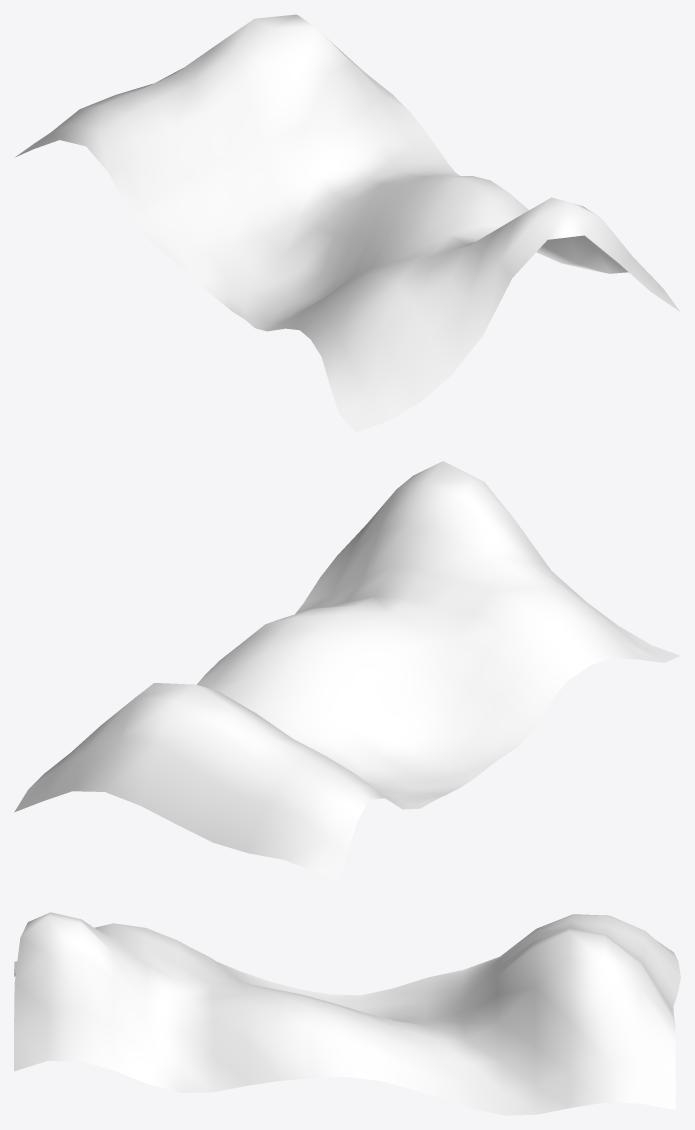
The model's file is SM_Landscape.fbx.
3 renders of one model, top to bottom at view 1: azimuth 30°, elevation 25°; view 2: azimuth 150°, elevation 25°; view 3: azimuth 270°, elevation 25°, orthographic. The views are drawn at different scales.
Parts seen in each view (by area): view 1: pPlane1; view 2: pPlane1; view 3: pPlane1.
Boxes of the visible parts, x1=… form: pPlane1: x1=15, y1=14, x2=680, y2=432; pPlane1: x1=14, y1=461, x2=680, y2=883; pPlane1: x1=14, y1=912, x2=680, y2=1115.
Size of the model in its own units: 961 by 456 by 1682.
